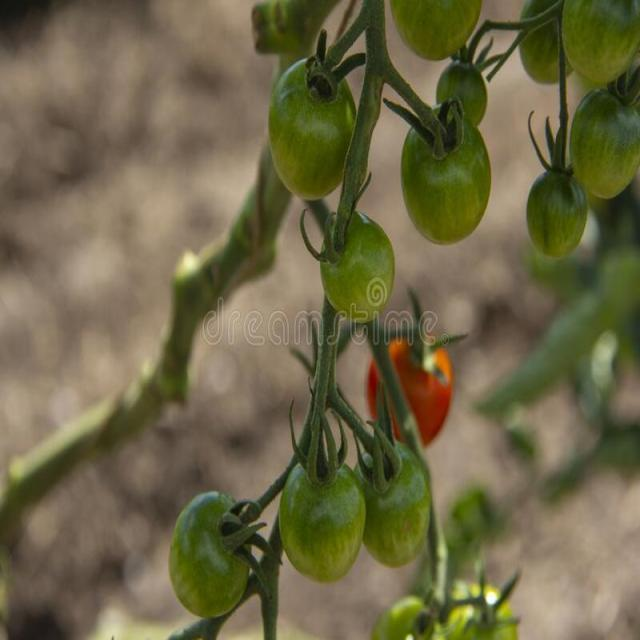kirmizi: (148, 462, 442, 620)
yesil: (276, 54, 510, 318), (152, 462, 434, 618)
